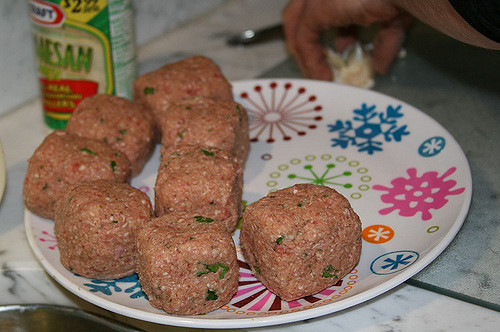meatballs: (243, 195, 366, 288), (132, 227, 232, 311)
